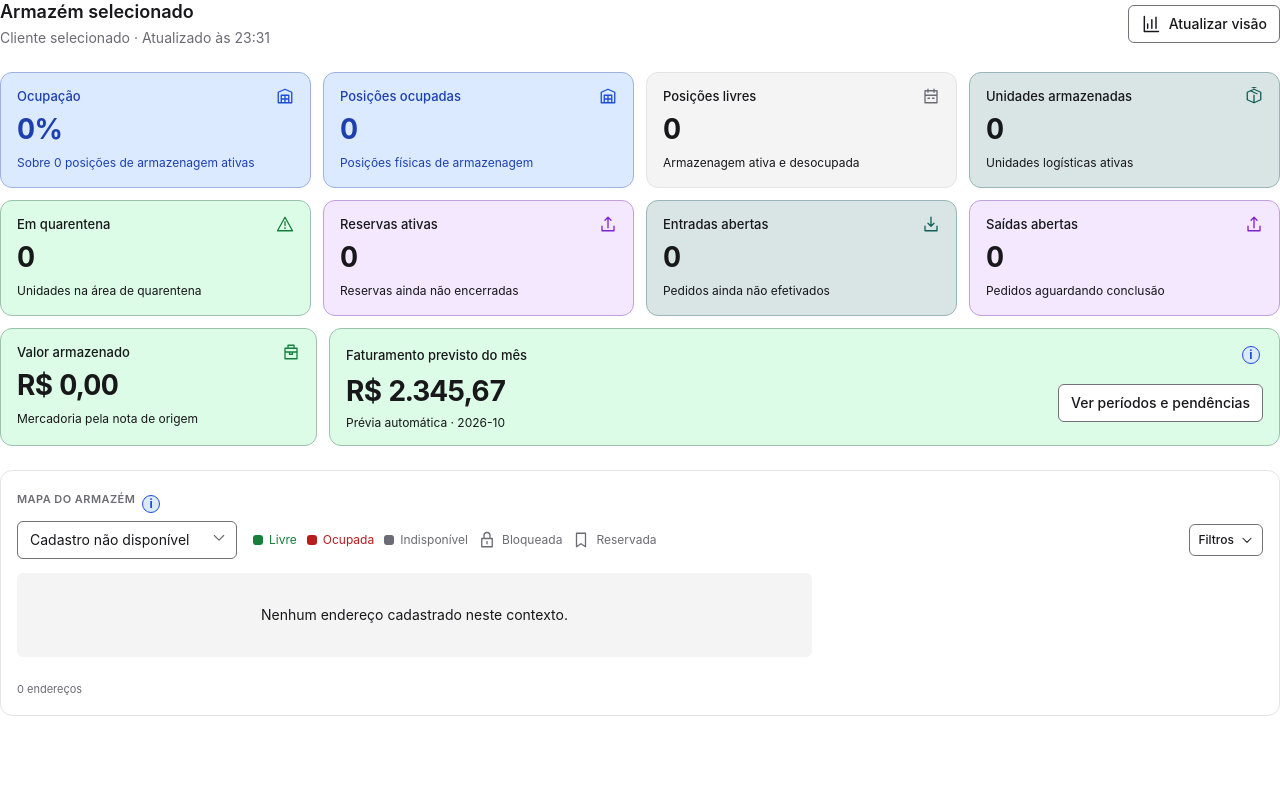
Test: detalha ciclo, período apurado e valores recebidos sem recalcular mínimo ou GRIS
The image size is (1280, 800).
expect the text "R$ 2.345,67" is shown: met, box [346,374,506,408]
Step 1. Click the button "Ver períodos e pendências" → (1160, 403), box [1058,384,1263,422]
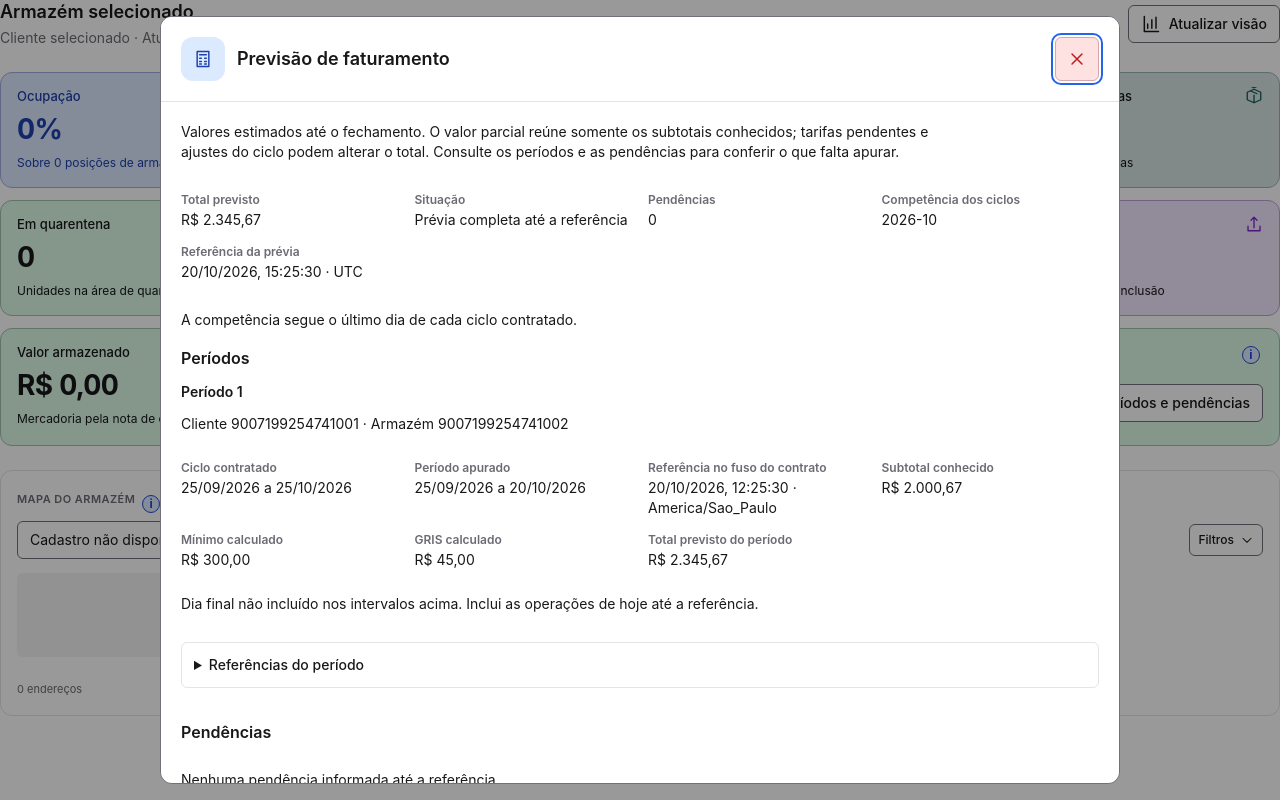
expect the dialog "Previsão de faturamento" shows "25/09/2026 a 25/10/2026": met
Step 2. Click the button named "Fechar diálogo" → (1077, 59), box [1055,37,1099,81]
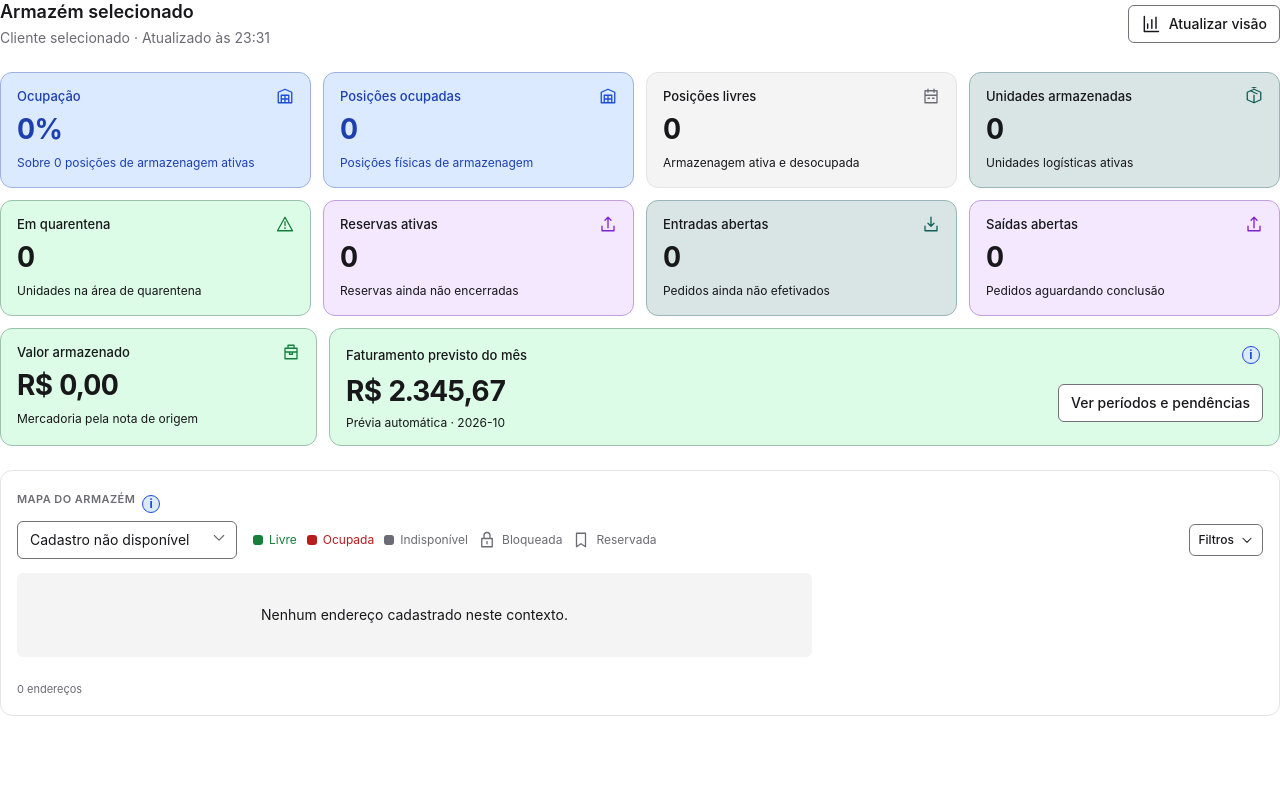
expect the dialog is gone: met
